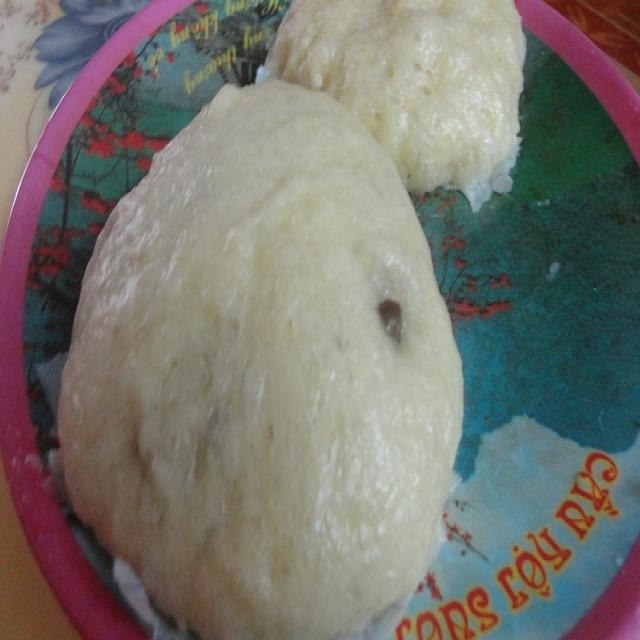带馅早点: (18, 7, 626, 637)
